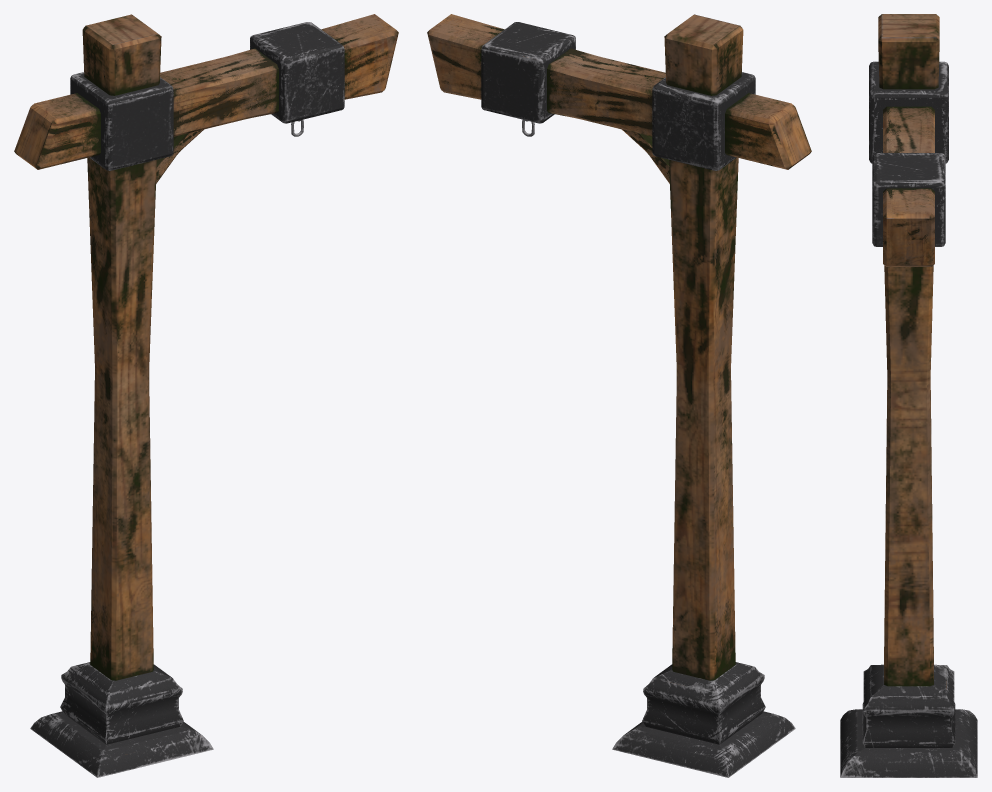
File: lampara low.fbx
3 views of the same model, side by side, from view 1: azimuth 30°, elevation 25°; view 2: azimuth 150°, elevation 25°; view 3: azimuth 270°, elevation 25° (orthographic).
Parts seen in each view (by area): view 1: tronco1_low, tronco2_low, base_low, cubo metal_low, cubo metal2_low; view 2: tronco1_low, tronco2_low, base_low, cubo metal_low, cubo metal2_low; view 3: tronco1_low, base_low, tronco2_low, cubo metal_low, cubo metal2_low.
Boxes of the visible parts, left/top/right/bottom form: tronco1_low: left=82, top=14, right=161, bottom=680; tronco2_low: left=14, top=14, right=398, bottom=169; base_low: left=30, top=662, right=213, bottom=777; cubo metal_low: left=250, top=22, right=344, bottom=123; cubo metal2_low: left=70, top=72, right=173, bottom=170; tronco1_low: left=664, top=14, right=743, bottom=680; tronco2_low: left=427, top=14, right=811, bottom=169; base_low: left=612, top=662, right=795, bottom=777; cubo metal_low: left=481, top=22, right=575, bottom=123; cubo metal2_low: left=652, top=72, right=755, bottom=170; tronco1_low: left=878, top=14, right=939, bottom=686; base_low: left=840, top=664, right=977, bottom=777; tronco2_low: left=883, top=106, right=934, bottom=266; cubo metal_low: left=872, top=153, right=945, bottom=246; cubo metal2_low: left=869, top=61, right=948, bottom=163.
Size of the model in its own units: 129 by 241 by 41.46.
Materials: 1 (1 with a texture image).
